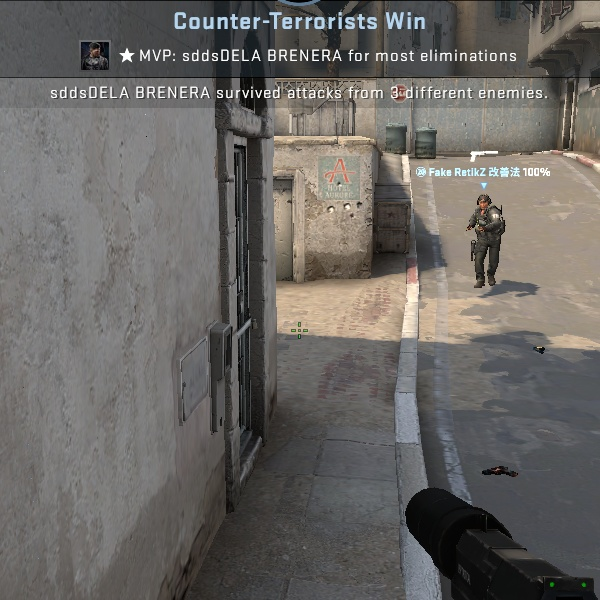ct_body: (459, 192, 512, 289)
